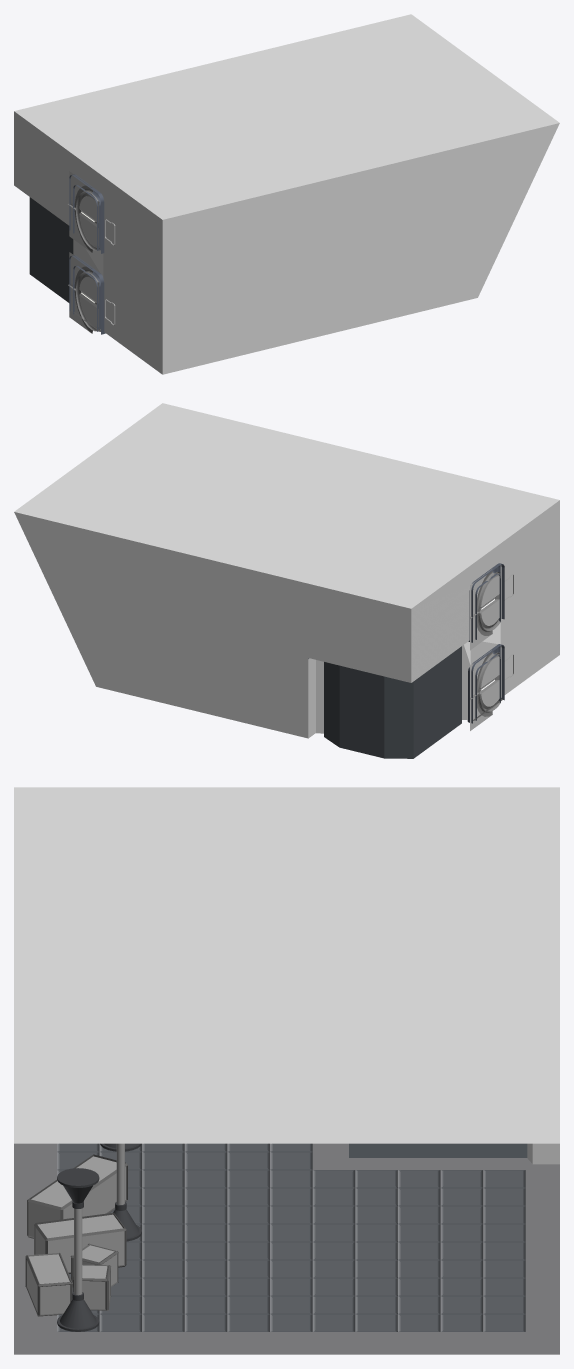
Rendered from Storage_01_Group.fbx.
The picture shows the model from 3 angles, top to bottom: view 1: azimuth 30°, elevation 25°; view 2: azimuth 150°, elevation 25°; view 3: azimuth 270°, elevation 25°; orthographic projection. The views are drawn at different scales.
Visible parts, largest first — view 1: Storage_Walls, Door_01 (×2), Door_Frame (×2); view 2: Storage_Walls, Door_01 (×2), Door_Frame (×2), Door_02 (×2); view 3: Storage_Walls, Storage_Floor_02_Level_04, Storage_Floor_01_Level_04, Storage_Crates_03, Storage_Supports.
Boxes of the visible parts, box(x1,y1,x2,y2) form: Storage_Walls: box(14, 14, 559, 374); Door_01 (×2): box(76, 191, 99, 331); Door_Frame (×2): box(69, 174, 105, 334); Storage_Walls: box(14, 403, 559, 758); Door_01 (×2): box(479, 572, 500, 711); Door_Frame (×2): box(467, 563, 504, 723); Door_02 (×2): box(470, 569, 494, 698); Storage_Walls: box(14, 787, 559, 1164); Storage_Floor_02_Level_04: box(57, 1143, 525, 1331); Storage_Floor_01_Level_04: box(14, 1143, 559, 1354); Storage_Crates_03: box(25, 1154, 127, 1316); Storage_Supports: box(57, 1143, 141, 1331).
Size of the model in its own units: 6226 by 2435 by 4000.
